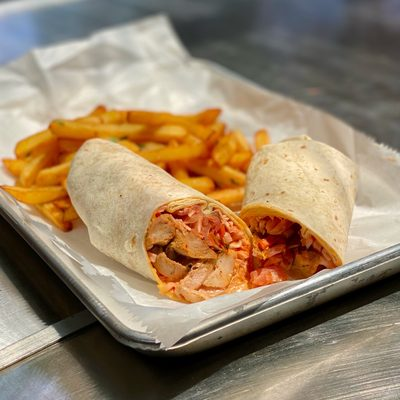sandwich: (0, 310, 97, 374)
soup: (66, 137, 259, 304), (238, 134, 359, 288)
